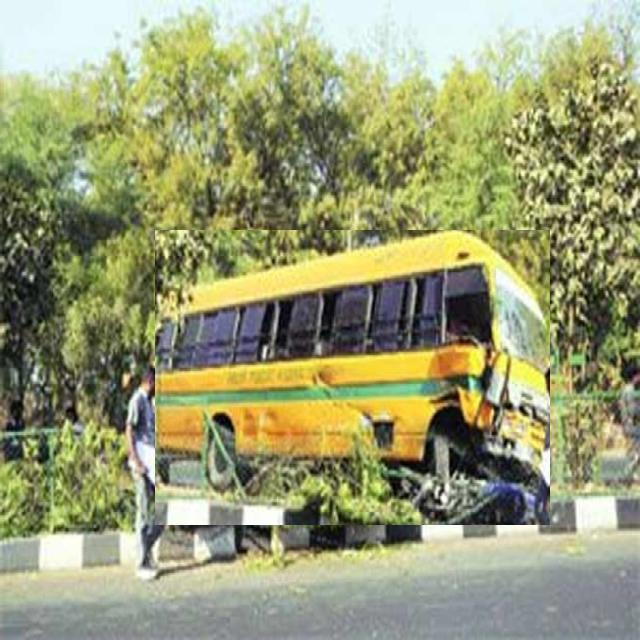accident: (155, 230, 550, 525), (233, 478, 239, 484)
